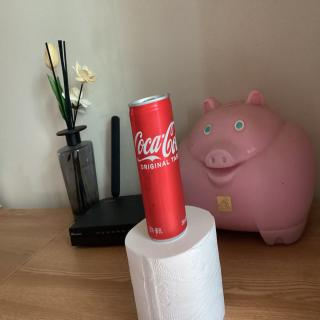cocacola: (126, 90, 194, 242)
